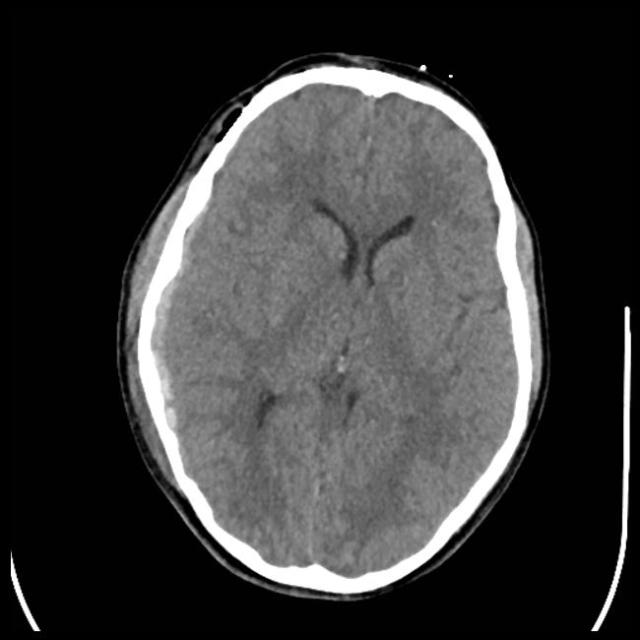lesion: (118, 56, 550, 597)
